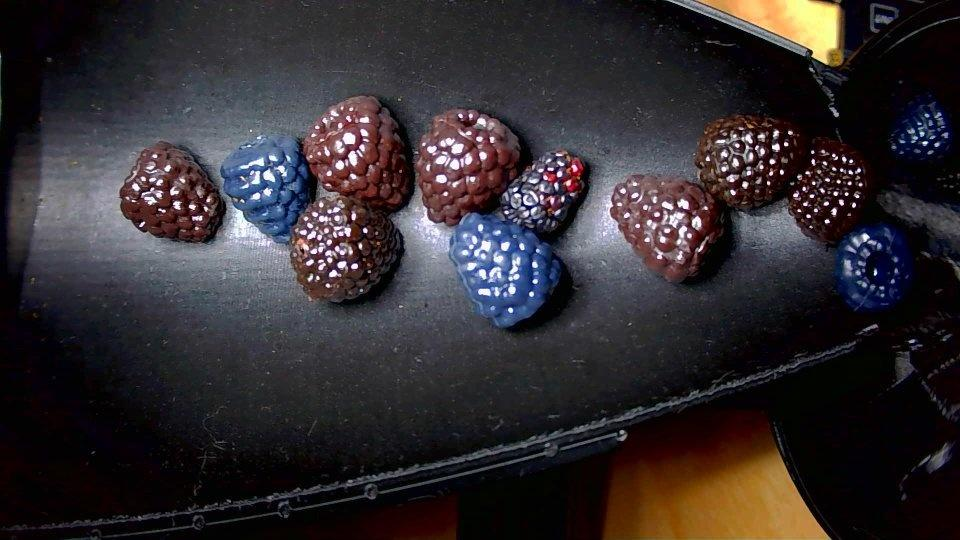berry: (449, 214, 561, 326), (302, 96, 411, 210), (610, 175, 725, 282), (288, 195, 401, 302), (417, 109, 520, 225), (119, 141, 223, 242), (695, 115, 806, 209), (221, 135, 313, 241), (789, 138, 875, 243), (501, 151, 584, 233), (836, 223, 913, 310), (888, 93, 951, 161)
